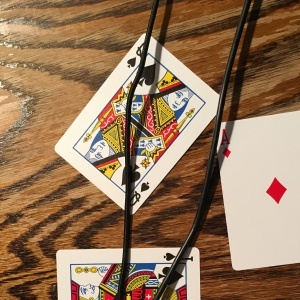card: (53, 33, 218, 214)
